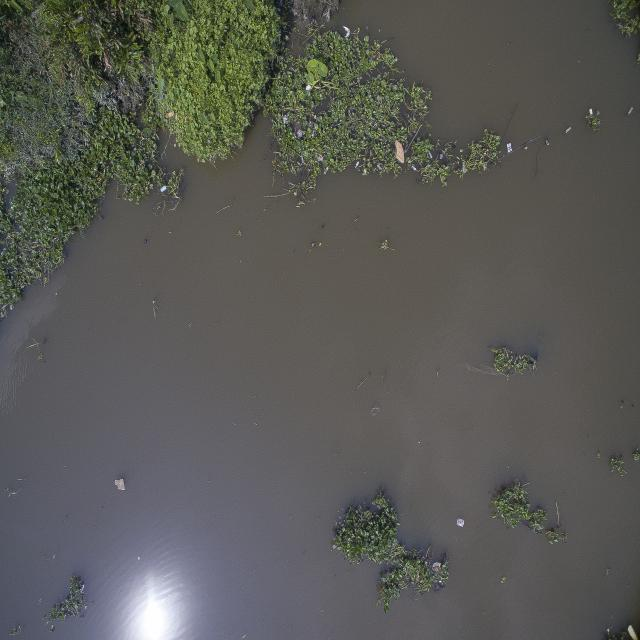debris: (393, 139, 405, 164), (113, 476, 129, 492), (338, 25, 354, 41), (78, 580, 88, 594), (455, 516, 466, 528), (432, 562, 442, 574), (460, 160, 468, 172), (281, 114, 289, 125), (296, 128, 304, 139), (506, 143, 513, 154), (306, 81, 312, 92), (588, 106, 594, 117), (439, 152, 444, 161), (363, 167, 368, 175), (354, 162, 359, 168), (524, 146, 528, 150)
plastic: (370, 402, 380, 417), (322, 166, 332, 176), (40, 334, 47, 346), (159, 185, 167, 195), (627, 106, 635, 116), (376, 163, 384, 172), (412, 164, 419, 174), (426, 149, 432, 159), (142, 237, 148, 246), (482, 162, 487, 172), (565, 127, 572, 134)
